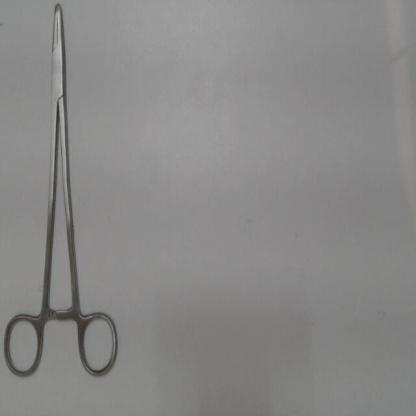8 Mayo Needle Holder: (0, 3, 126, 389)
